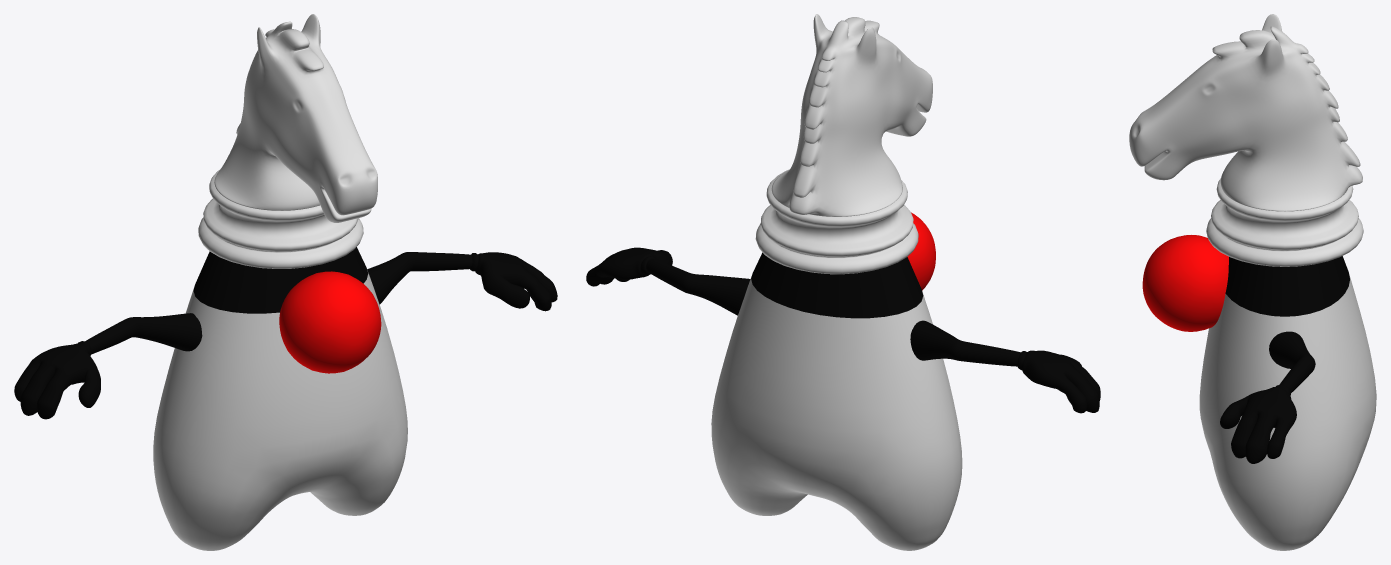
The model's file is knight.fbx.
3 views of the same model, side by side, from view 1: azimuth 30°, elevation 25°; view 2: azimuth 150°, elevation 25°; view 3: azimuth 270°, elevation 25° (orthographic). The views are drawn at different scales.
Parts seen in each view (by area): view 1: knight; view 2: knight; view 3: knight.
Boxes of the visible parts, <box> form: knight: <box>14,14,557,550</box>; knight: <box>586,14,1100,550</box>; knight: <box>1129,14,1376,550</box>.
Bounding box in the file's own units: 2520 × 2359 × 1089.
